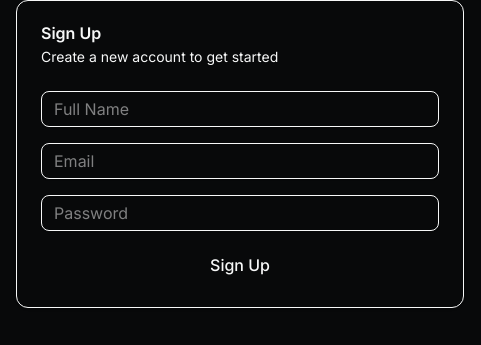
it: SignUp › renders API errors
This screenshot has width=481, height=345.
Type "Jane Admin" into the field with placeholder "Full Name" at (240, 109), box [41,91,439,127]
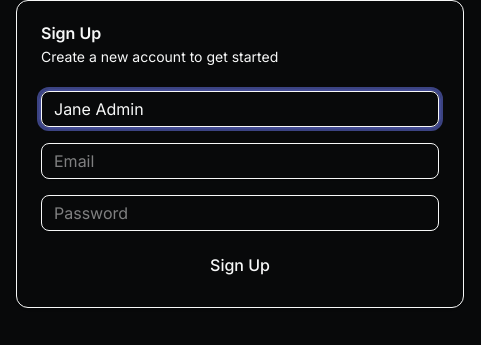
Type "admin@example.com" into the field with placeholder "Email" at (240, 161), box [41,143,439,179]
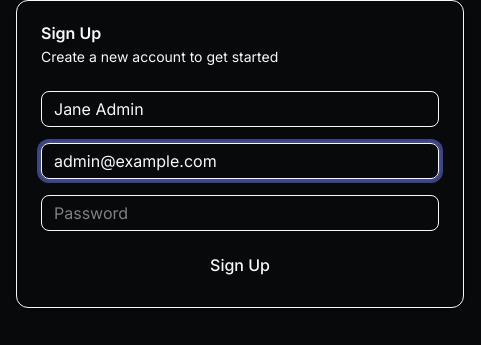
Type "Password123!" into the password field with placeholder "Password" at (240, 213), box [41,195,439,231]
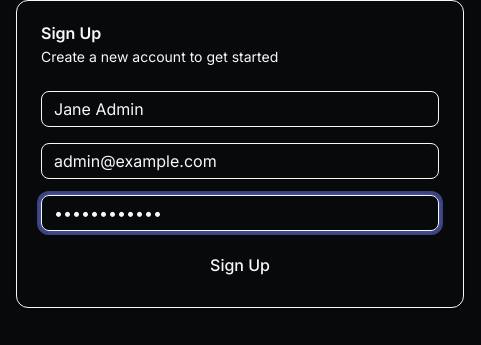
Click the button "Sign Up" at (240, 265), box [41,247,439,283]
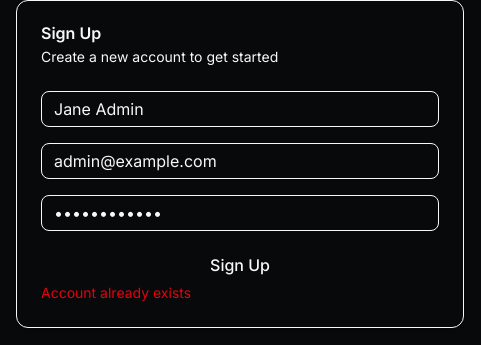
Check: the text "Account already exists" is shown, box [41,284,191,301]
